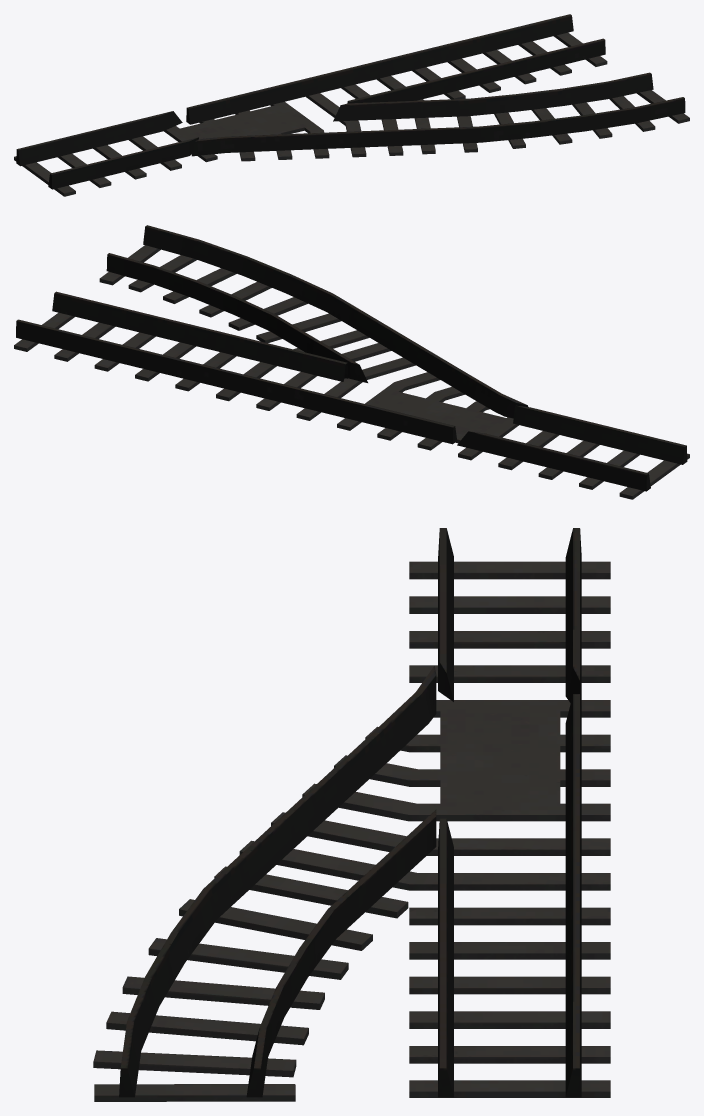
The model's file is SM_Railway_switch_1.fbx.
The picture shows the model from 3 angles, top to bottom: view 1: azimuth 30°, elevation 25°; view 2: azimuth 150°, elevation 25°; view 3: azimuth 270°, elevation 25°; orthographic projection. The views are drawn at different scales.
Visible parts, largest first — view 1: SM_Railway_switch_1; view 2: SM_Railway_switch_1; view 3: SM_Railway_switch_1.
Part boxes in pixels (box(x1,y1,x2,y2)): SM_Railway_switch_1: box(14, 14, 689, 196); SM_Railway_switch_1: box(14, 225, 689, 499); SM_Railway_switch_1: box(93, 528, 610, 1101).
Bounding box in the file's own units: 40.05 × 1.22 × 16.2.
1 material, 1 textured.
